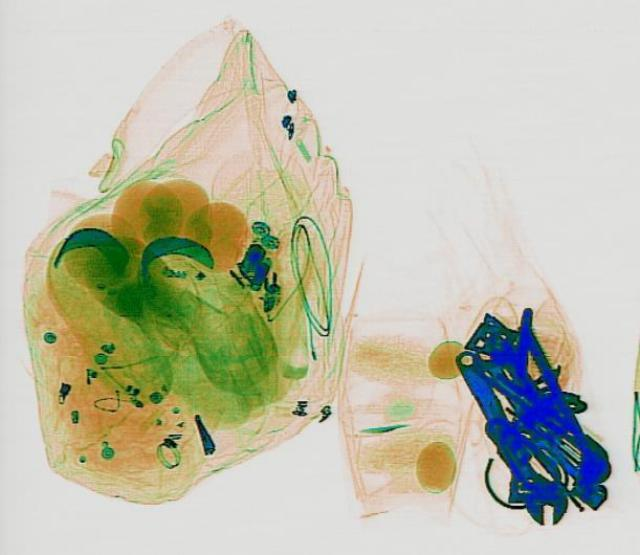Wrench: (438, 341, 578, 529)
